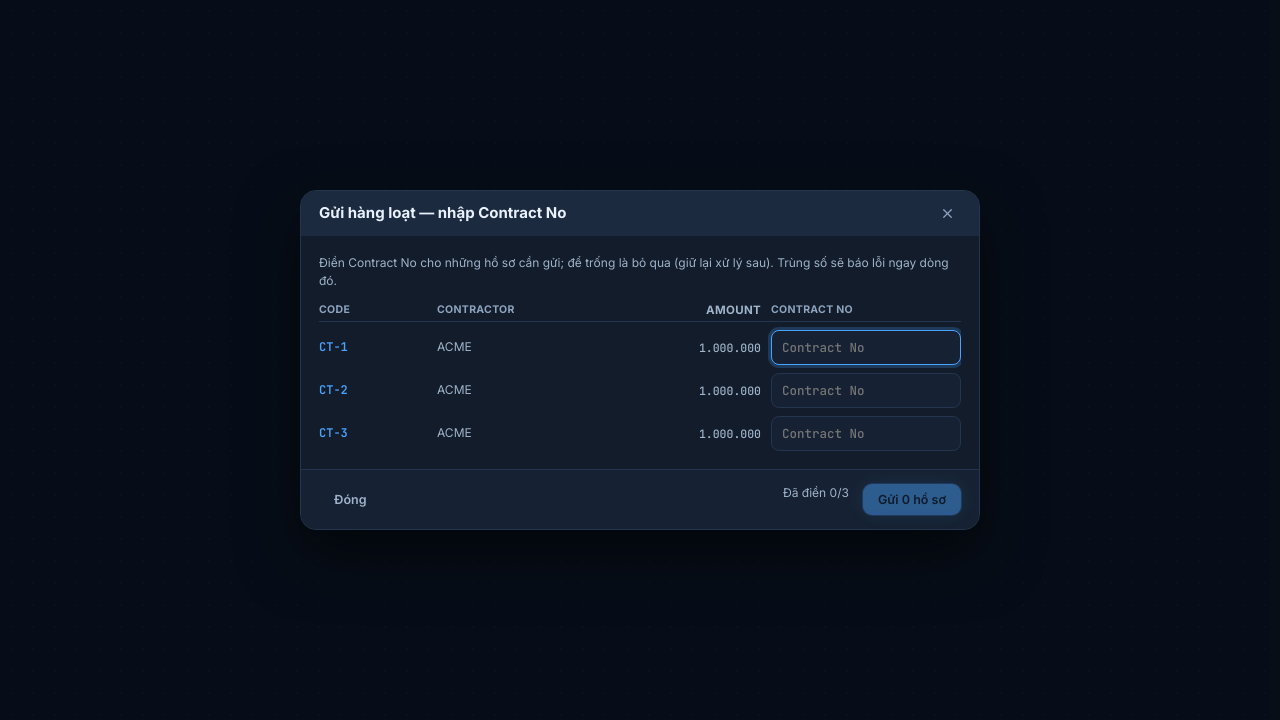
Scenario: BatchSendAccountingModal — enter many numbers at once › keeps a failed (e.g. duplicate) row with its error and does NOT close
Type "26-CC-1" into the field with placeholder "Contract No" in the row of "CT-1" at [866, 347], box x1=771 y1=330 x2=961 y2=365
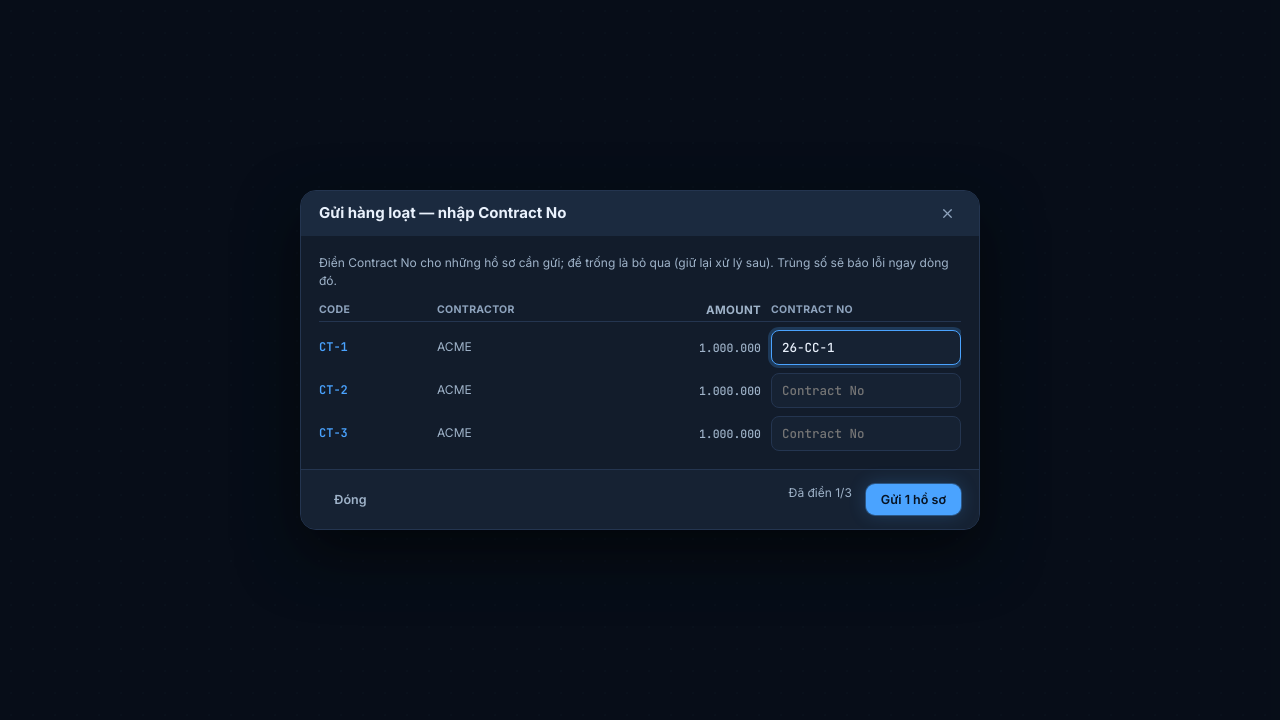
Click the button "Gửi 1 hồ sơ" at [913, 499], box x1=866 y1=484 x2=961 y2=515
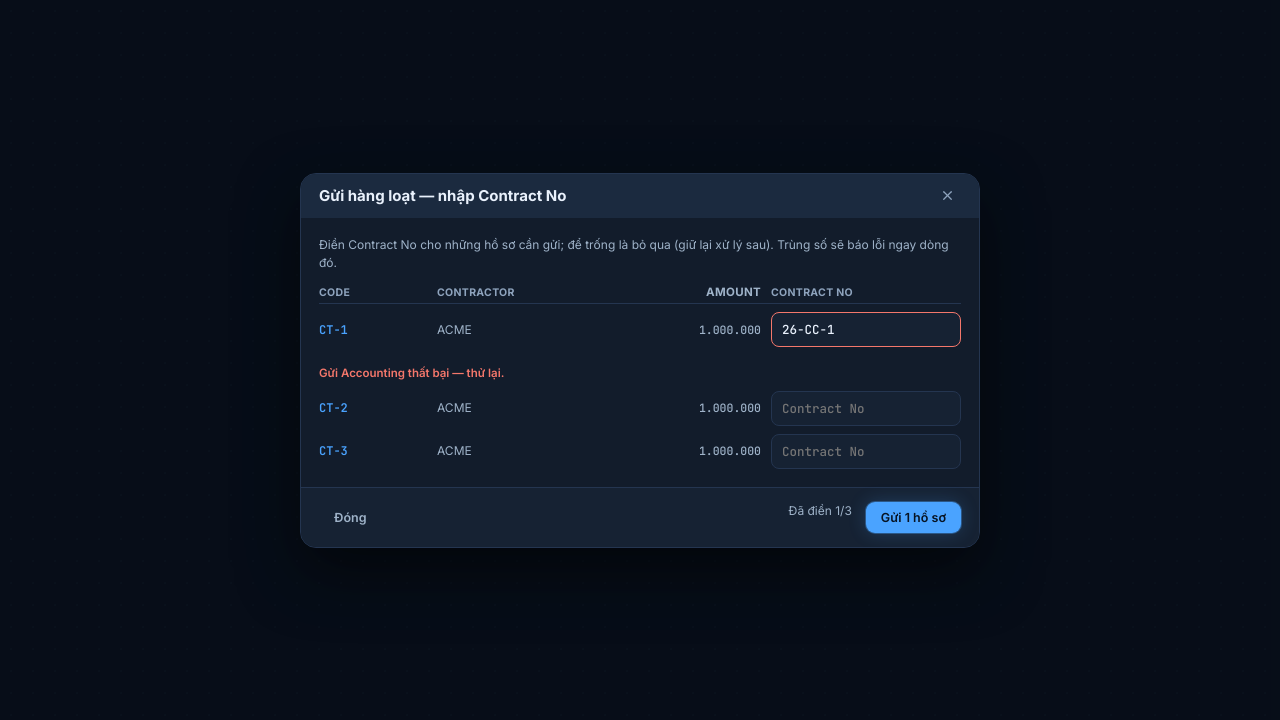
Expected: the message "Gửi Accounting thất bại — thử lại." is shown, x1=319 y1=366 x2=504 y2=380
